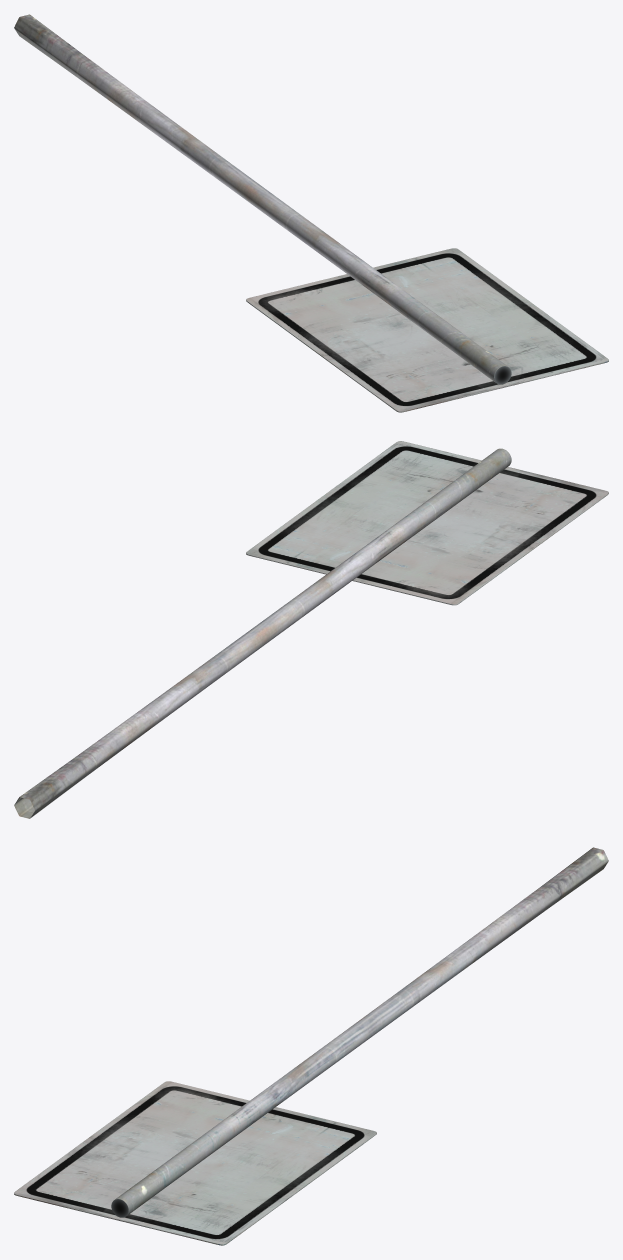
Rendered from 10566_Speed Limit Sign (70 MPH)_v2-L3.obj.
The picture shows the model from 3 angles, top to bottom: view 1: azimuth 30°, elevation 25°; view 2: azimuth 150°, elevation 25°; view 3: azimuth 330°, elevation 25°; orthographic projection.
Parts seen in each view (by area): view 1: polySurface4; view 2: polySurface4; view 3: polySurface4.
Part boxes in pixels (x1,y1,x2,y2): polySurface4: (14,14,608,412); polySurface4: (14,441,608,818); polySurface4: (14,847,608,1245).
Bounding box in the file's own units: 60 × 5.5 × 236.
Materials: 1 (1 with a texture image).
